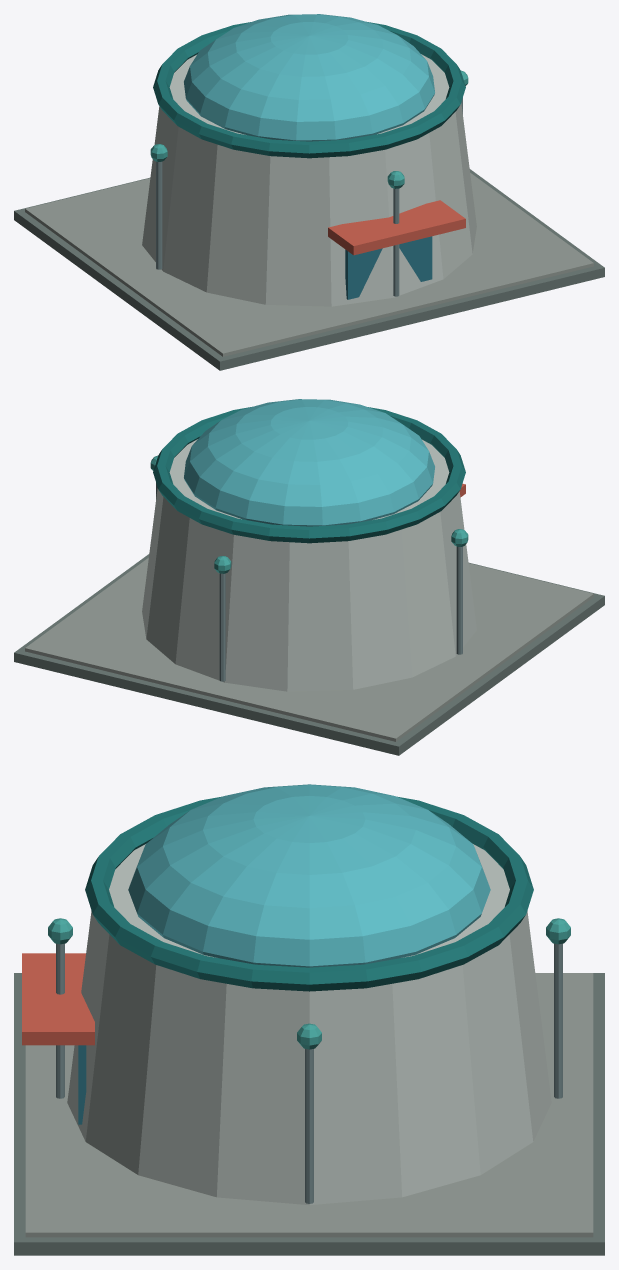
File: research_lab_lv2.glb
3 views of the same model, one above another, from view 1: azimuth 30°, elevation 25°; view 2: azimuth 150°, elevation 25°; view 3: azimuth 270°, elevation 25° (orthographic). The views are drawn at different scales.
Visible parts, largest first — view 1: rough, glossy, metallic; view 2: rough, glossy, metallic; view 3: rough, glossy, metallic.
Part boxes in pixels (x1,y1,x2,y2): rough: [14, 22, 604, 370]; glossy: [184, 14, 434, 299]; metallic: [156, 98, 462, 296]; rough: [14, 407, 604, 755]; glossy: [184, 399, 434, 526]; metallic: [156, 483, 462, 681]; rough: [14, 796, 604, 1255]; glossy: [78, 784, 490, 1124]; metallic: [56, 943, 562, 1203].
Bounding box in the file's own units: 9.6 × 5.07 × 8.9.
